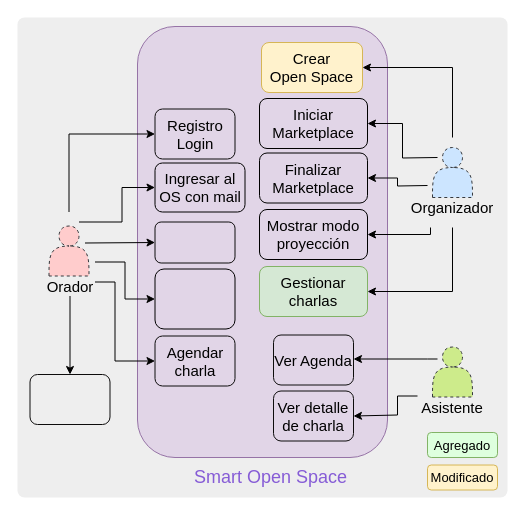
Image size: 524x514. Some labels were removed from this diagram. The centre of each missing label's shape, as x and y in pixels:
"Cargar charla" goes at pixel 194 242.
"Encolarse para exponer" goes at pixel 194 298.
"Exponer" goes at pixel 69 399.
